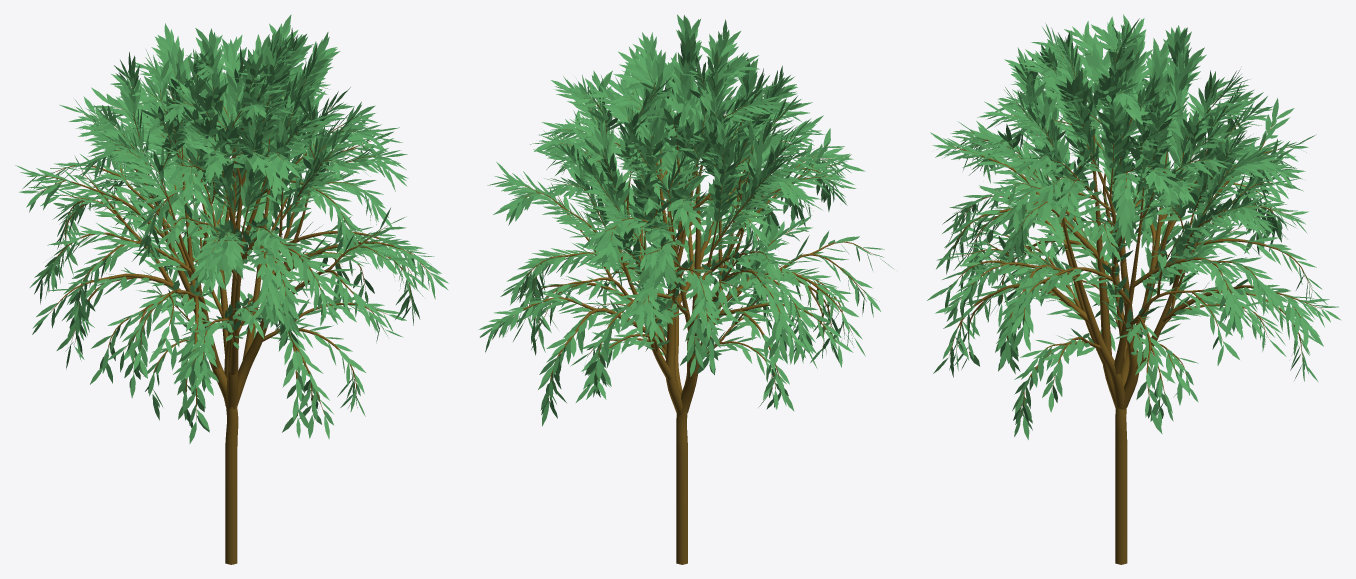
The model's file is Puu2.fbx.
3 renders of one model, left to right at view 1: azimuth 30°, elevation 25°; view 2: azimuth 150°, elevation 25°; view 3: azimuth 270°, elevation 25°, orthographic. The views are drawn at different scales.
Parts seen in each view (by area): view 1: leaves; view 2: leaves; view 3: leaves.
Boxes of the visible parts, left/top/right/bottom form: leaves: left=15, top=14, right=448, bottom=564; leaves: left=478, top=14, right=894, bottom=564; leaves: left=927, top=14, right=1341, bottom=564.
Size of the model in its own units: 581 by 869 by 603.
